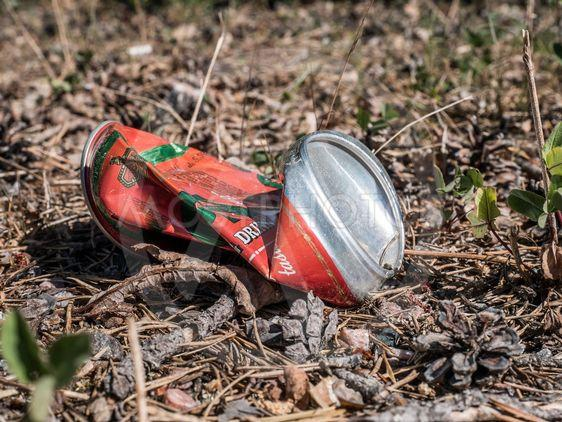metal: (81, 112, 407, 300)
